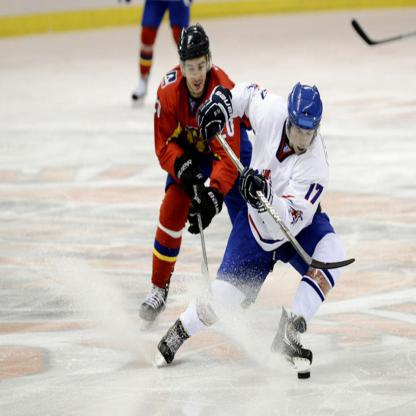face: (183, 51, 207, 98), (291, 115, 316, 157)
